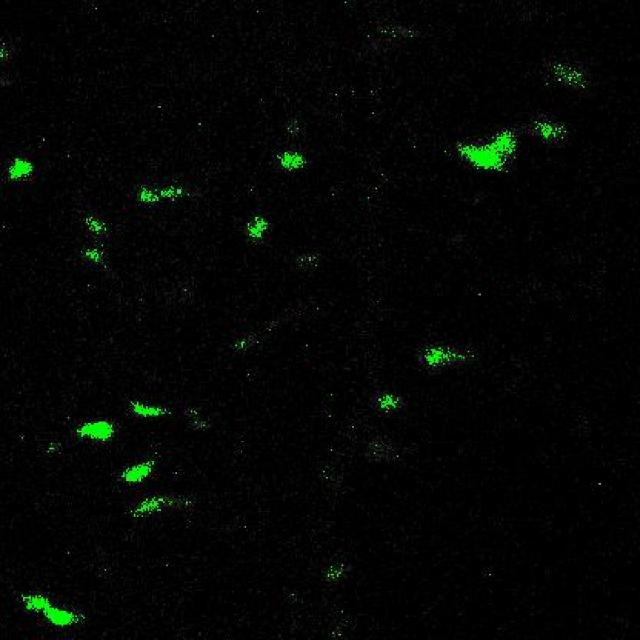Cell: (463, 134, 515, 173), (28, 592, 74, 630), (118, 459, 154, 483), (137, 186, 185, 203), (77, 421, 115, 441), (134, 398, 166, 419), (10, 156, 32, 181), (246, 215, 266, 240), (425, 347, 447, 368), (281, 151, 304, 170), (540, 122, 558, 140), (564, 139, 564, 139)
